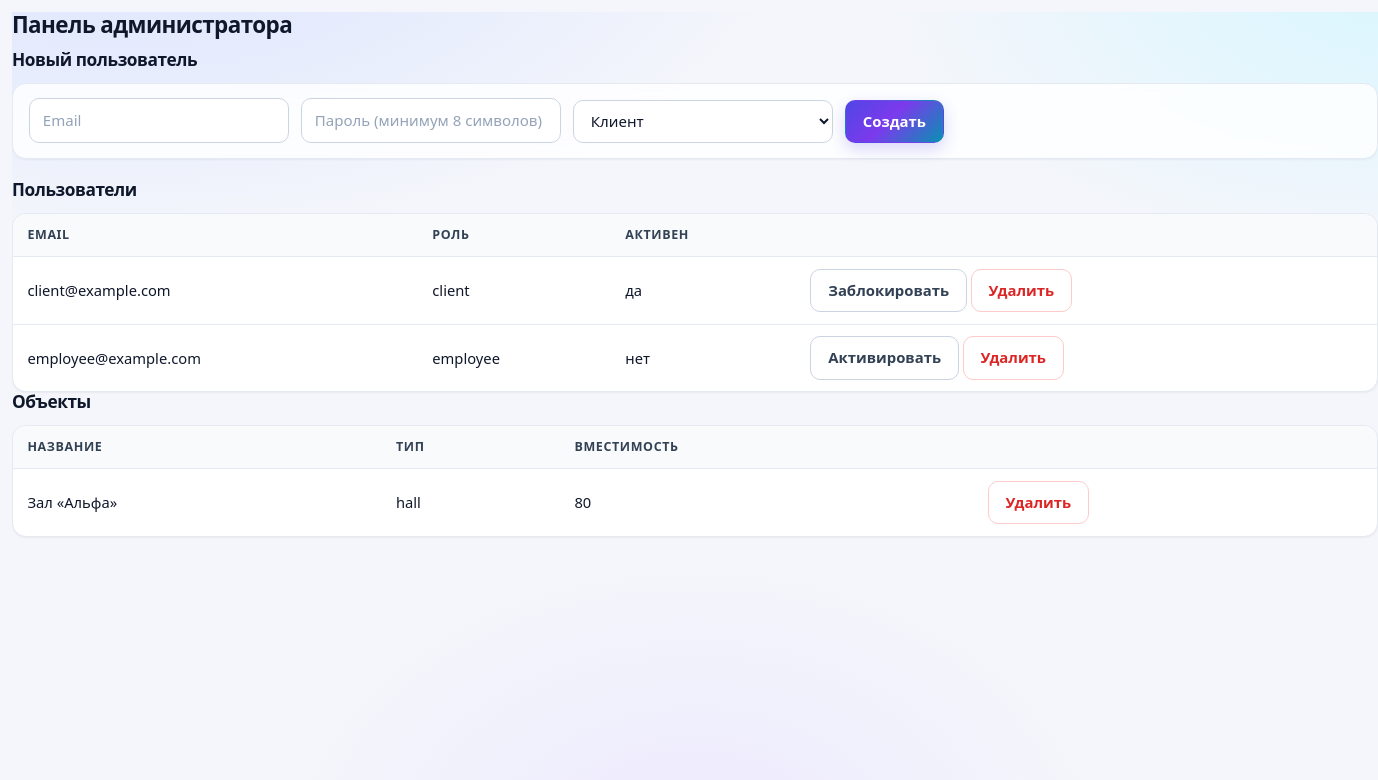
it: Admin › показывает ошибку создания пользователя
Expected: the text "client@example.com" is shown, x1=13 y1=257 x2=418 y2=325
Type "client@example.com" into the field with placeholder "Email" at (159, 121), box x1=29 y1=98 x2=289 y2=143
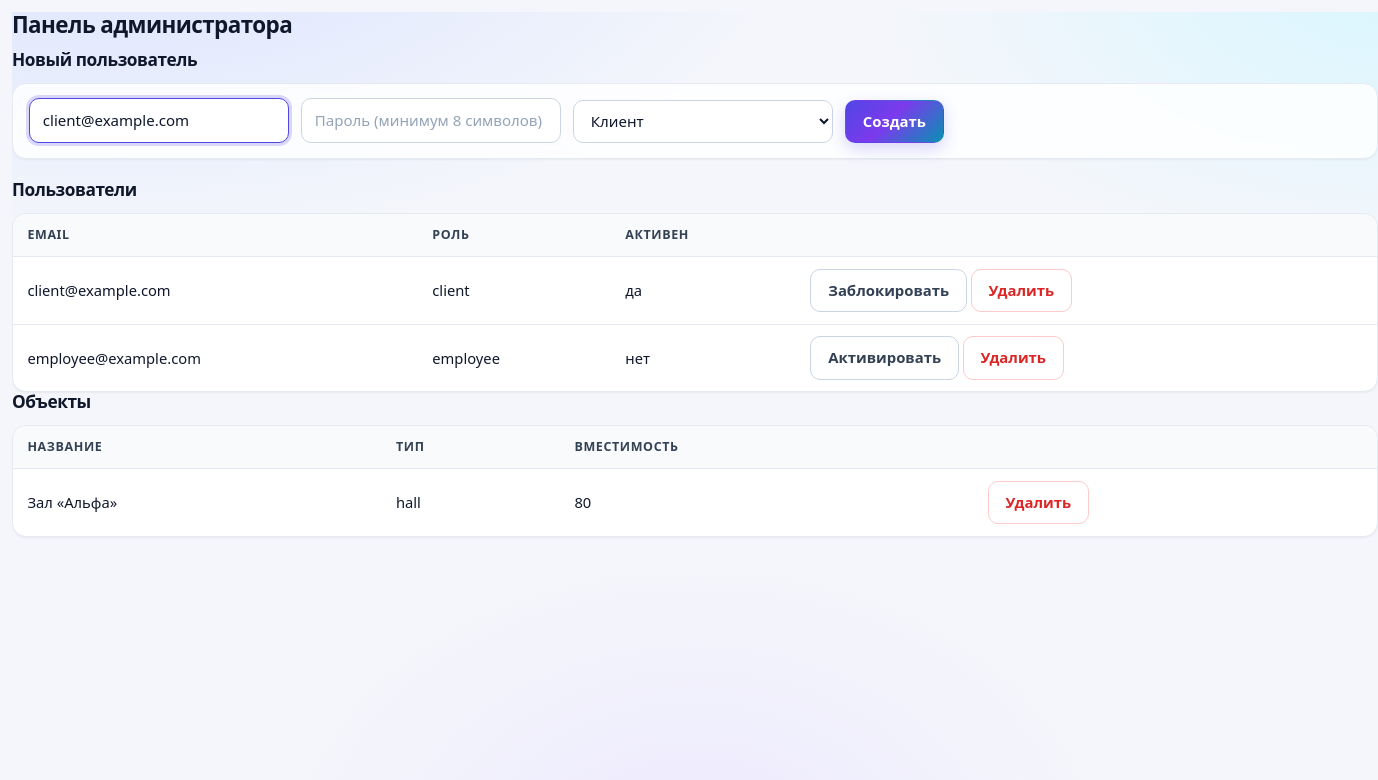
Type "NewPass123!" into the password field with placeholder "Пароль (минимум 8 символов)" at (431, 121), box x1=301 y1=98 x2=561 y2=143
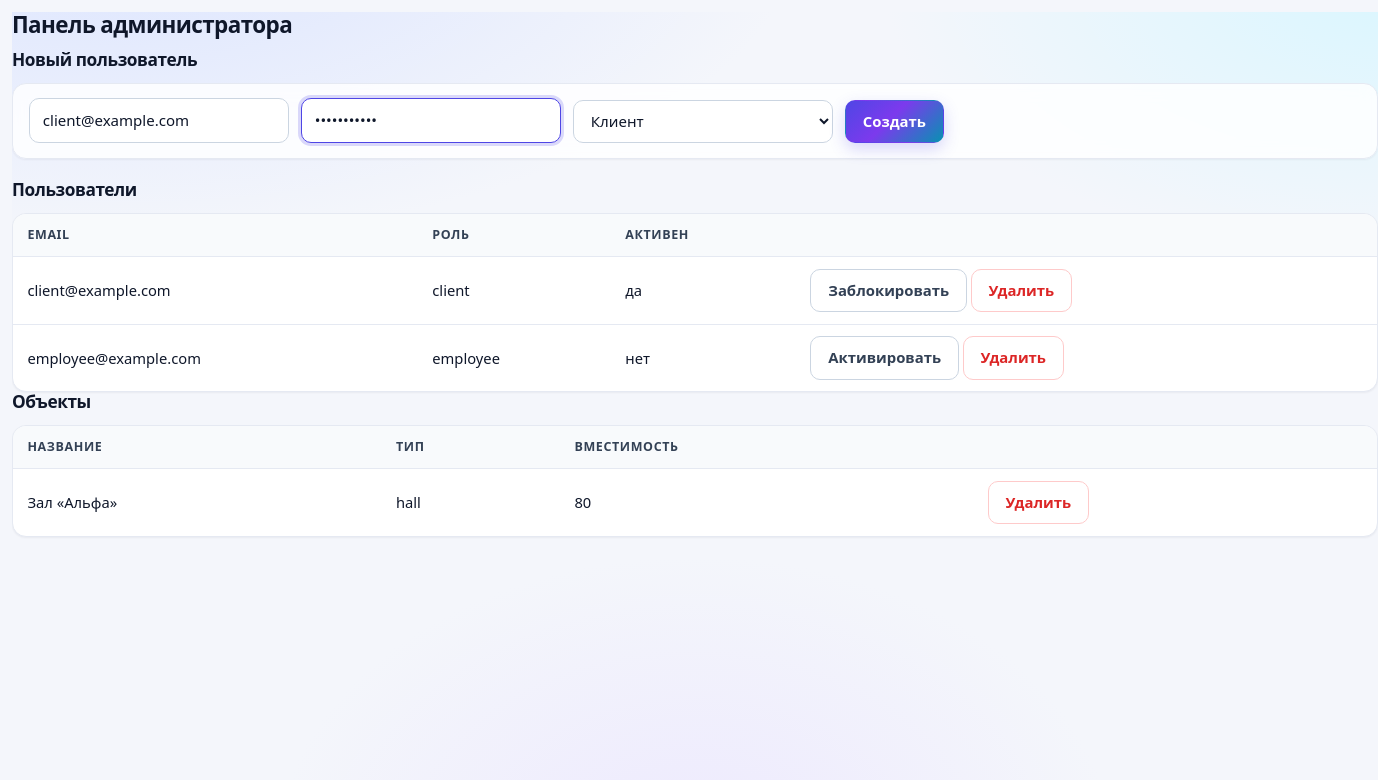
Click the button "Создать" at (894, 122), box x1=845 y1=100 x2=944 y2=143
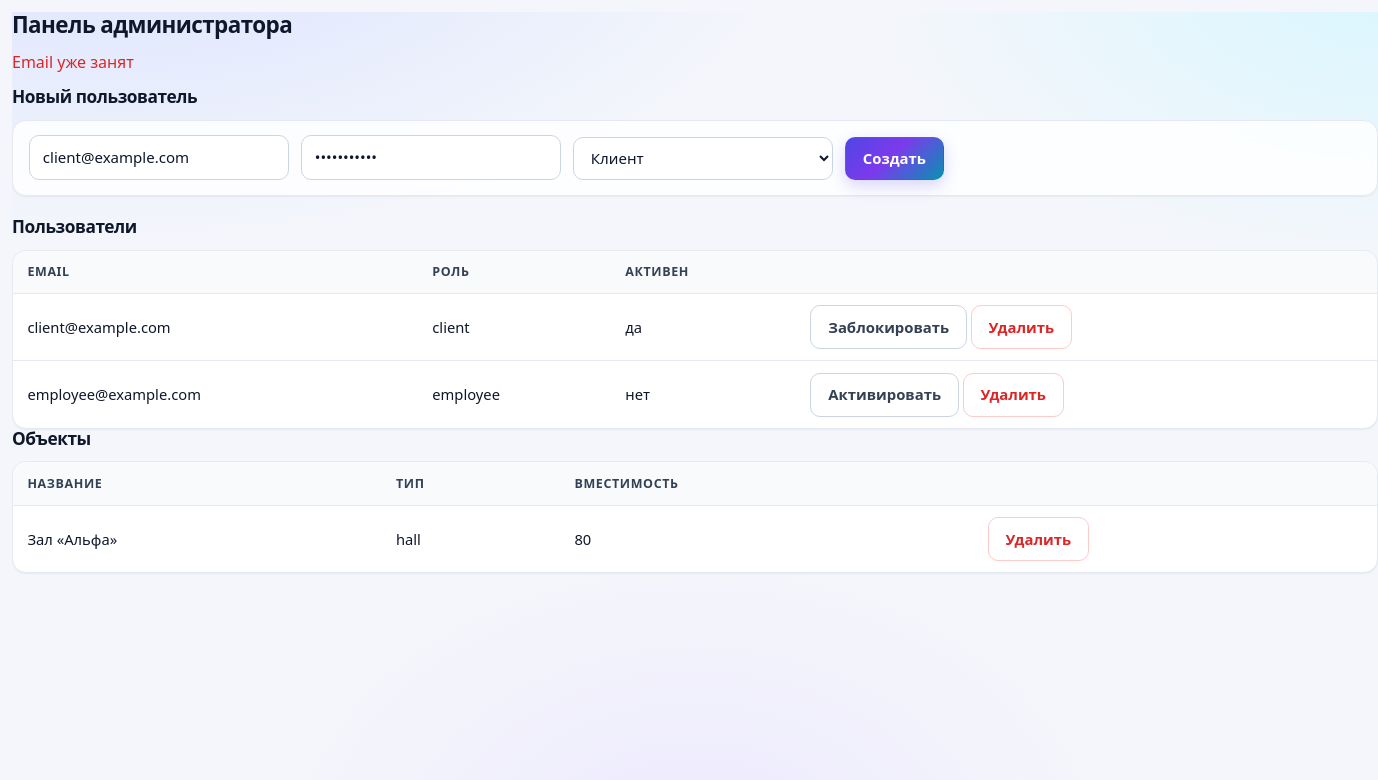
Expected: the text "Email уже занят" is shown, x1=12 y1=51 x2=134 y2=73
